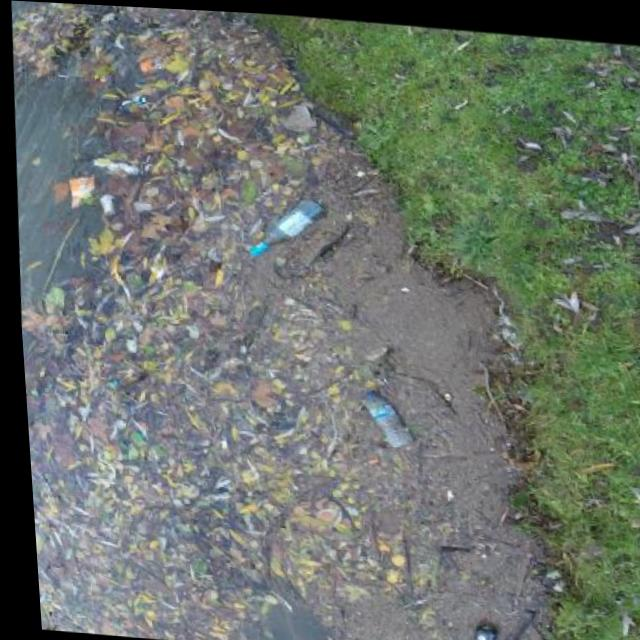glass: (243, 191, 330, 262)
metal: (462, 619, 502, 640)
plastic: (360, 388, 415, 450)
